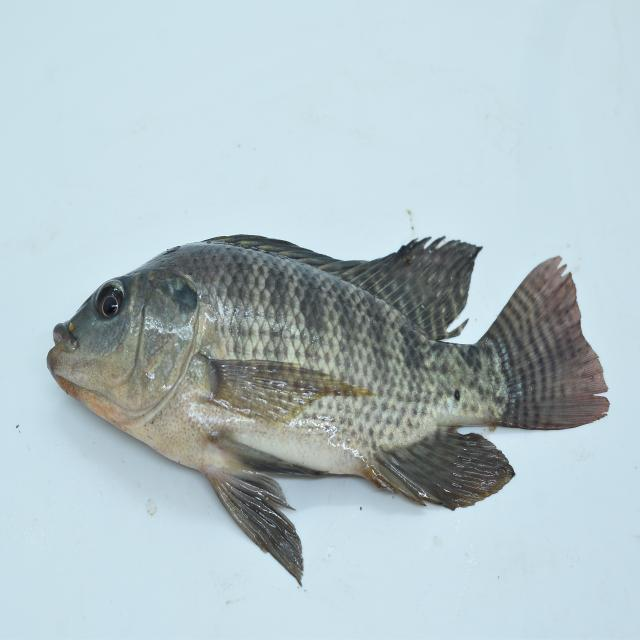Healthy Fish: (46, 229, 615, 587)
